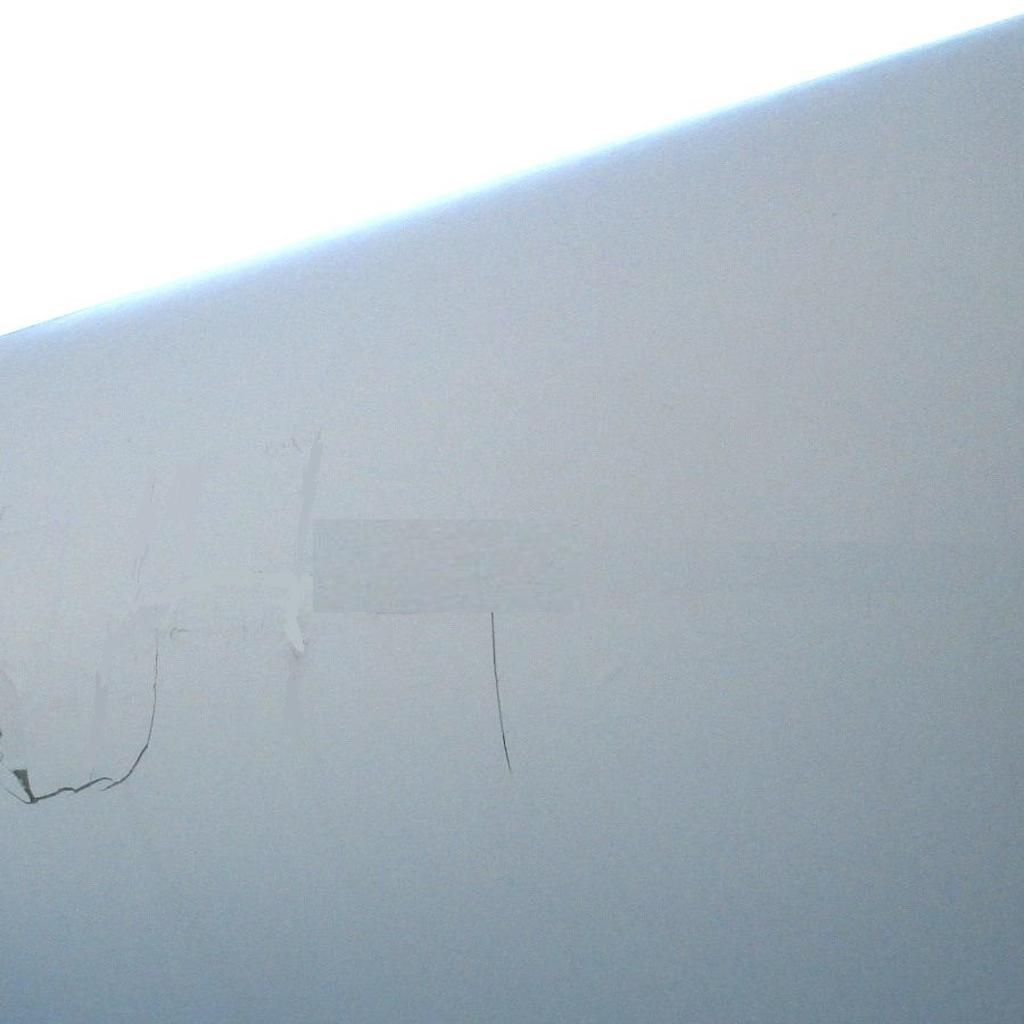hide_craze: (7, 644, 163, 804), (483, 611, 514, 775)
